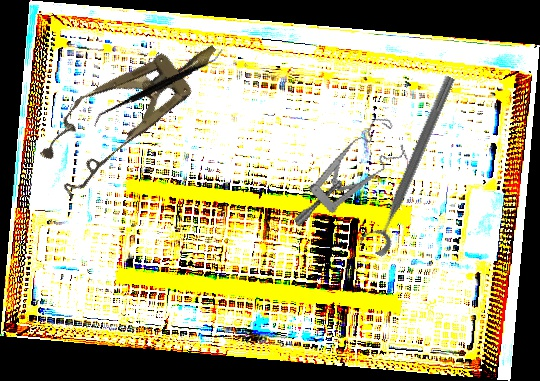Fixation Ring: (355, 68, 461, 259)
Spatula Surgical: (92, 12, 225, 164)
Speculum: (26, 16, 238, 200), (272, 113, 417, 228)
